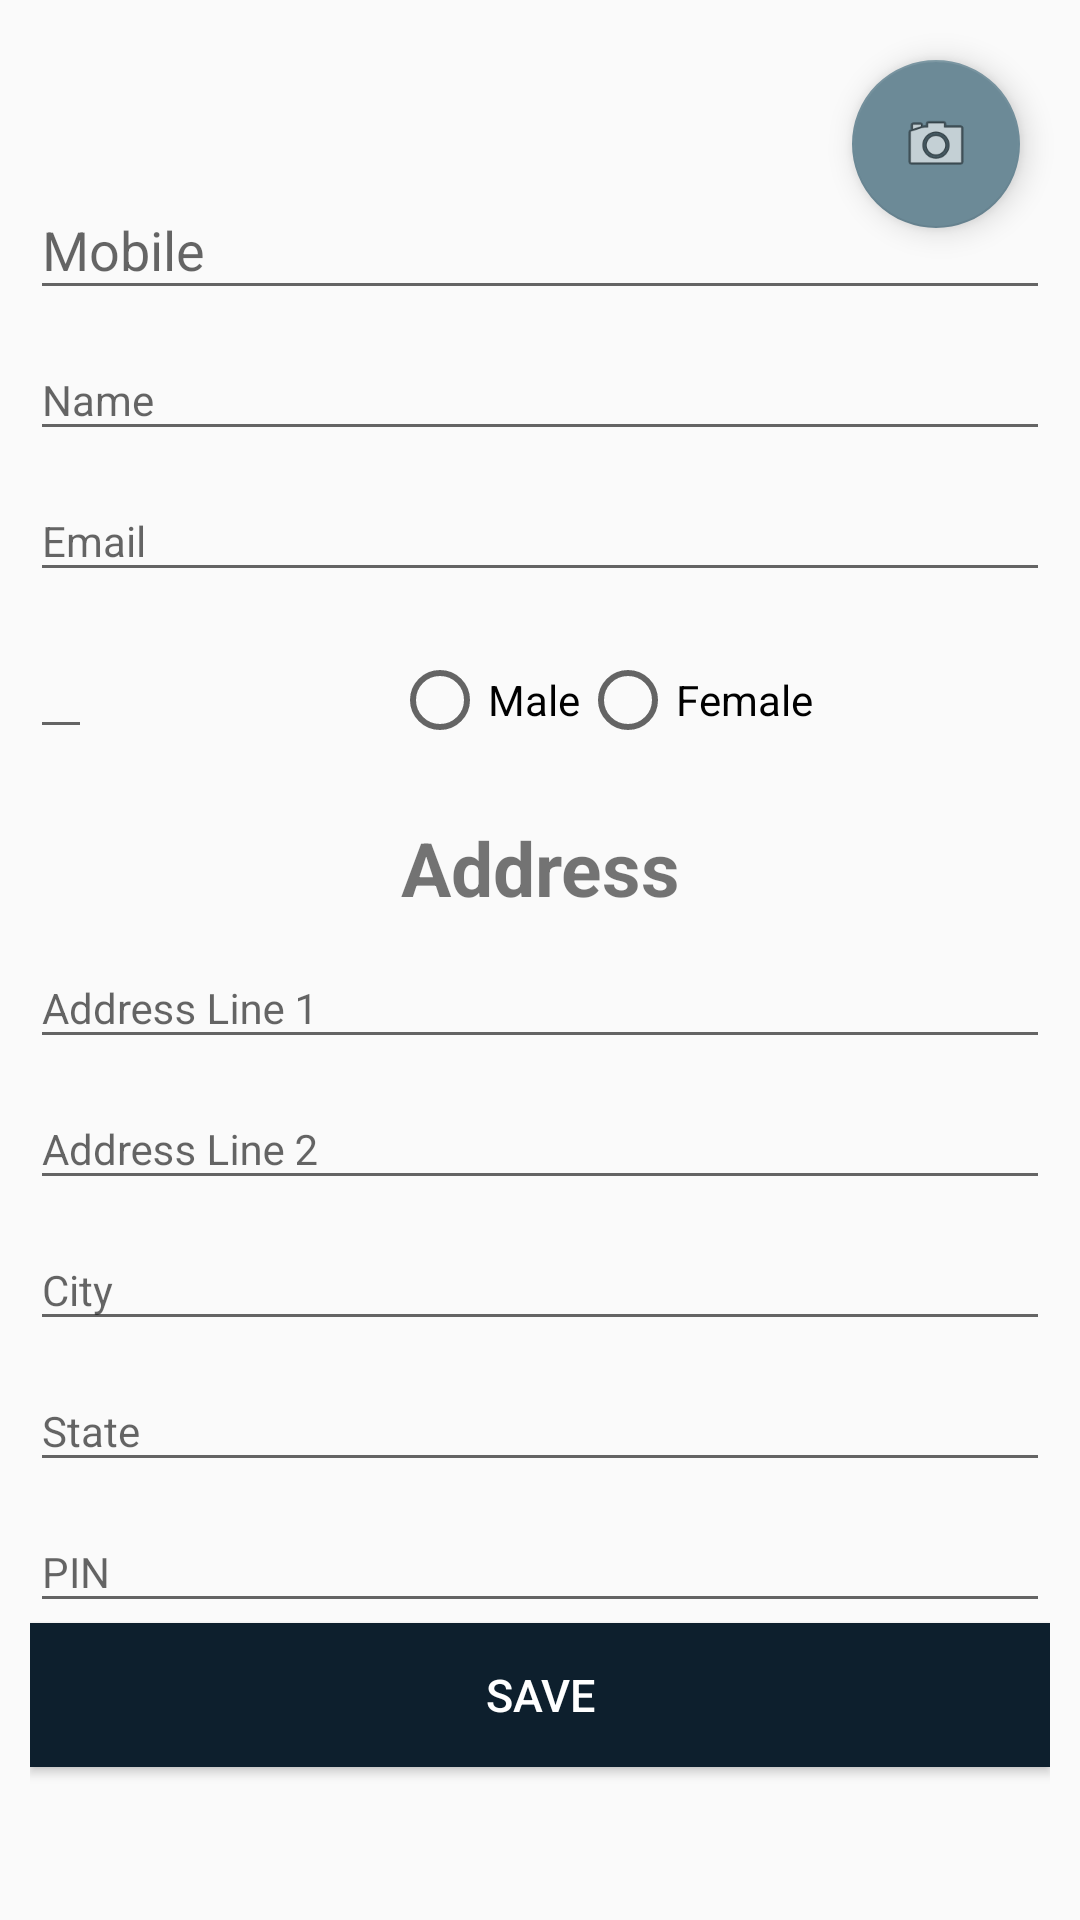

Icons on this 1080w x 1920h Android screen, each with the point to tap as (x=x, y=y):
camera: (x=936, y=144)
